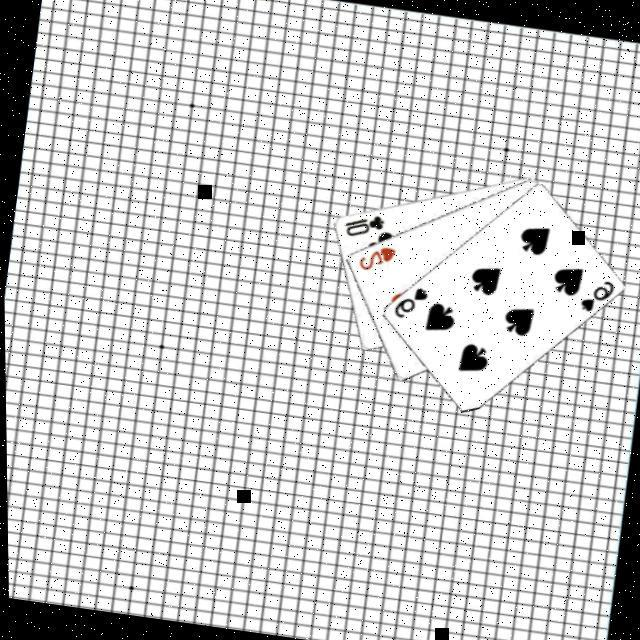10C: (338, 206, 386, 242)
2H: (353, 238, 397, 275)
6S: (574, 272, 616, 317), (388, 279, 430, 322)
